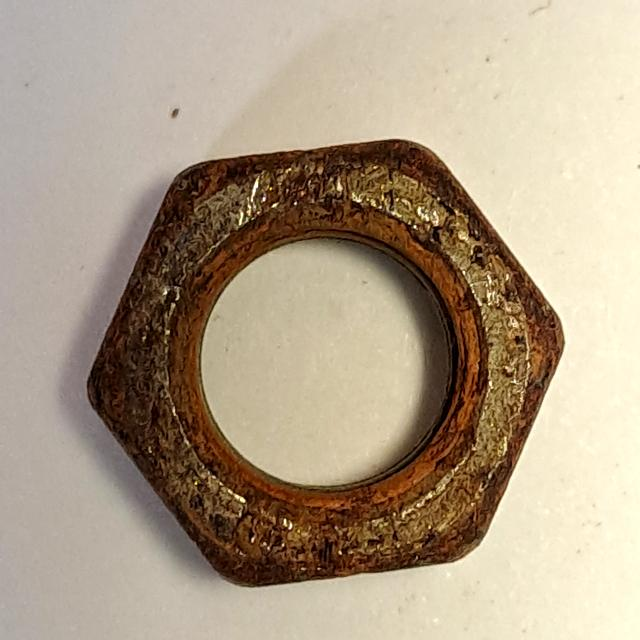Rust: (70, 128, 581, 606)
